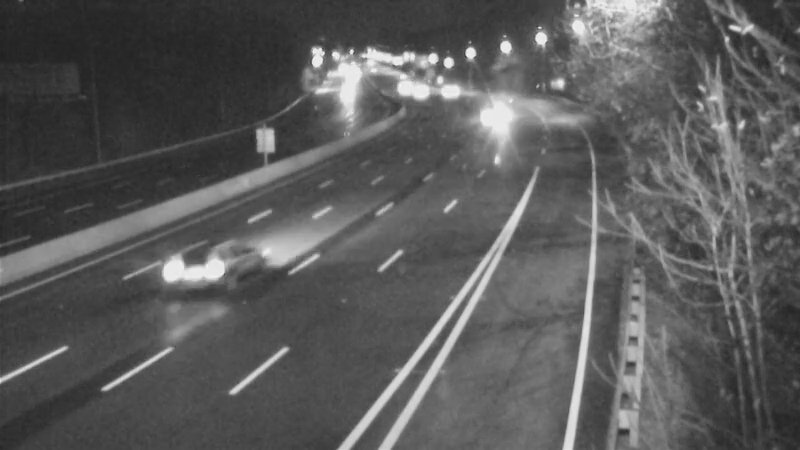vehicle: (170, 226, 250, 306), (376, 64, 426, 114), (419, 62, 469, 112), (394, 69, 444, 119), (470, 85, 520, 135)
